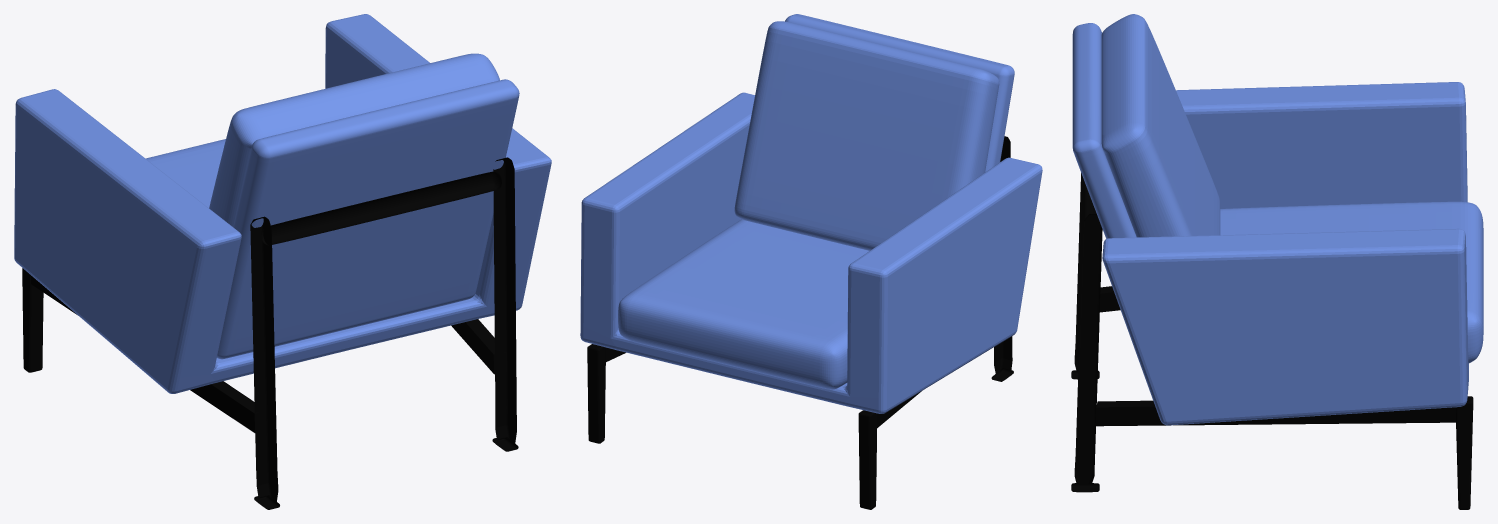
Rendered from Sessel.fbx.
The picture shows the model from 3 angles, left to right: view 1: azimuth 30°, elevation 25°; view 2: azimuth 150°, elevation 25°; view 3: azimuth 270°, elevation 25°; orthographic projection. The views are drawn at different scales.
Visible parts, largest first — view 1: Stuhl; view 2: Stuhl; view 3: Stuhl.
Boxes of the visible parts, box(x1,y1,x2,y2) form: Stuhl: box(14, 14, 551, 509); Stuhl: box(580, 14, 1042, 509); Stuhl: box(1071, 14, 1483, 509).
Bounding box in the file's own units: 86.4 × 86.92 × 89.48.
